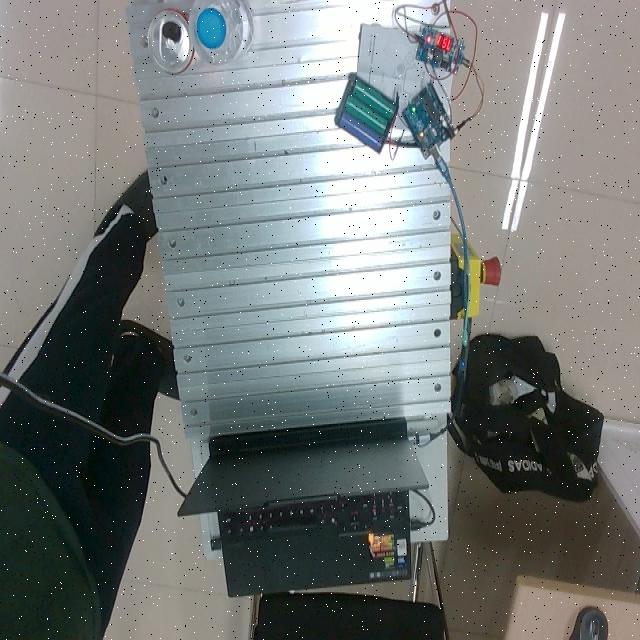lavie: (188, 0, 253, 68), (148, 9, 197, 76)
